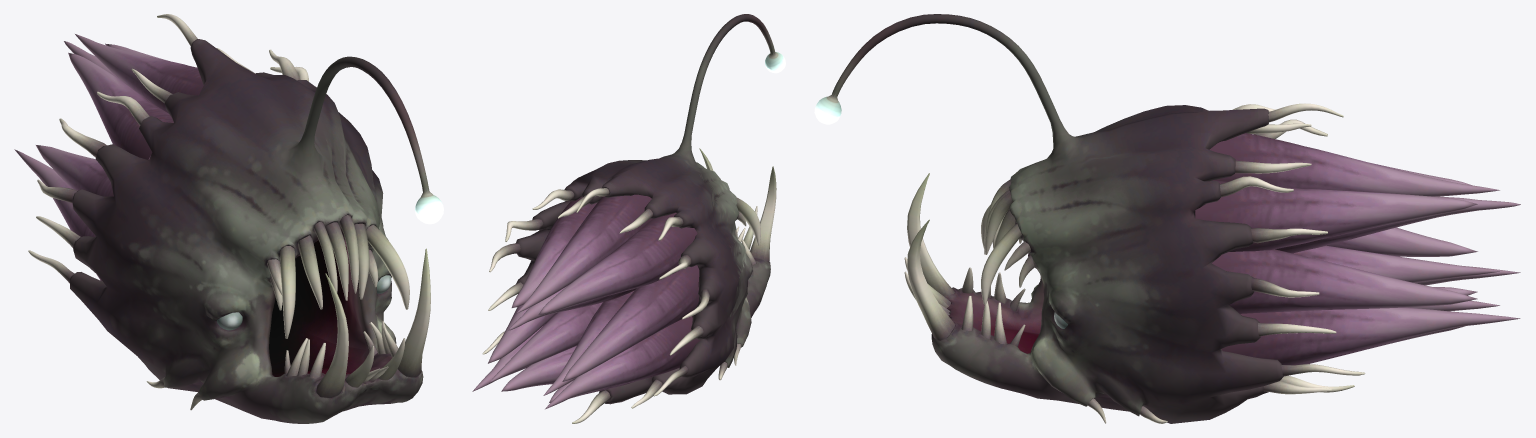
The model's file is leviathan.glb.
The picture shows the model from 3 angles, left to right: view 1: azimuth 30°, elevation 25°; view 2: azimuth 150°, elevation 25°; view 3: azimuth 270°, elevation 25°; orthographic projection. The views are drawn at different scales.
Parts seen in each view (by area): view 1: Beast_Anglerfish; view 2: Beast_Anglerfish; view 3: Beast_Anglerfish.
Boxes of the visible parts, x1,y1,x2,y2 form: Beast_Anglerfish: [14, 14, 443, 423]; Beast_Anglerfish: [472, 14, 785, 423]; Beast_Anglerfish: [814, 14, 1520, 423].
Size of the model in its own units: 112 by 155 by 250.
Materials: 1 (1 with a texture image).
